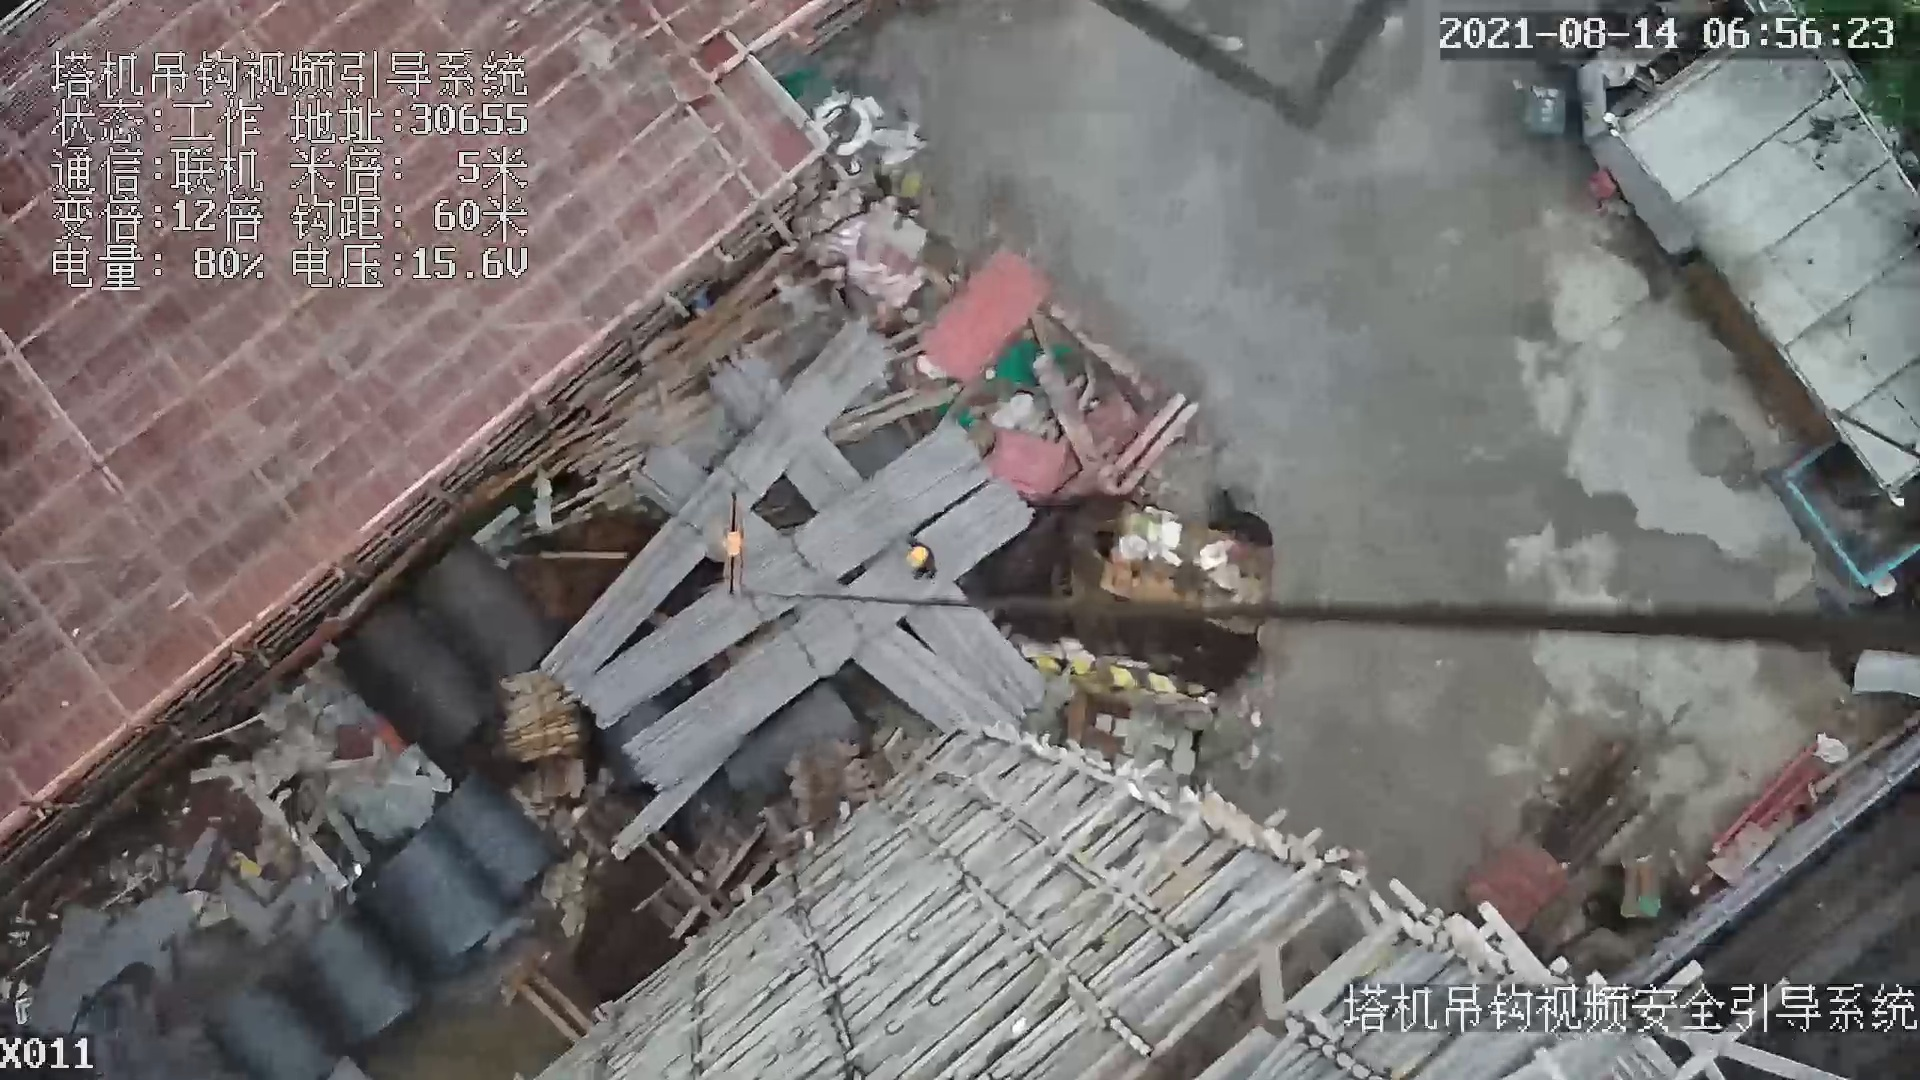helmet: (907, 546, 928, 567)
hook: (722, 492, 753, 610)
person: (904, 536, 941, 585)
rebar: (540, 319, 890, 695), (571, 415, 990, 727), (620, 484, 1033, 790), (854, 625, 1023, 734), (907, 581, 1045, 716)
wood: (503, 690, 580, 761)
